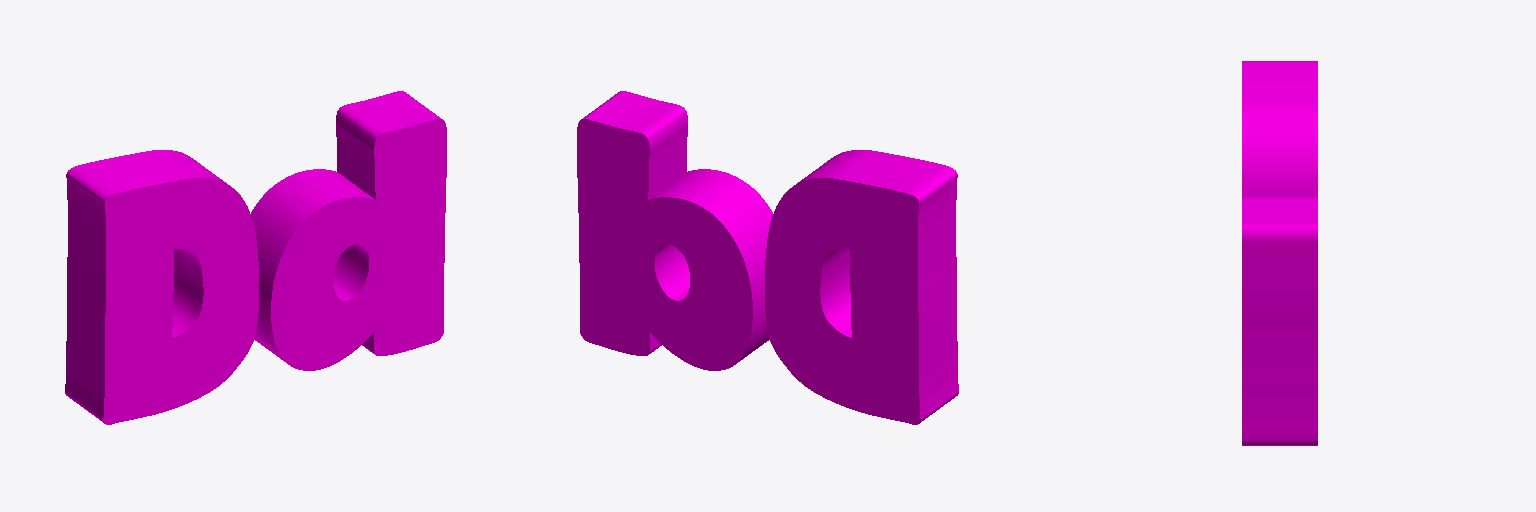
File: Letter_d.obj
3 views of the same model, side by side, from view 1: azimuth 30°, elevation 25°; view 2: azimuth 150°, elevation 25°; view 3: azimuth 270°, elevation 25° (orthographic).
Visible parts, largest first — view 1: Text; view 2: Text; view 3: Text.
Boxes of the visible parts, x1,y1,x2,y2 form: Text: [65, 91, 446, 424]; Text: [577, 91, 958, 424]; Text: [1242, 61, 1317, 445].
Size of the model in its own units: 1.03 by 0.6629 by 0.2.